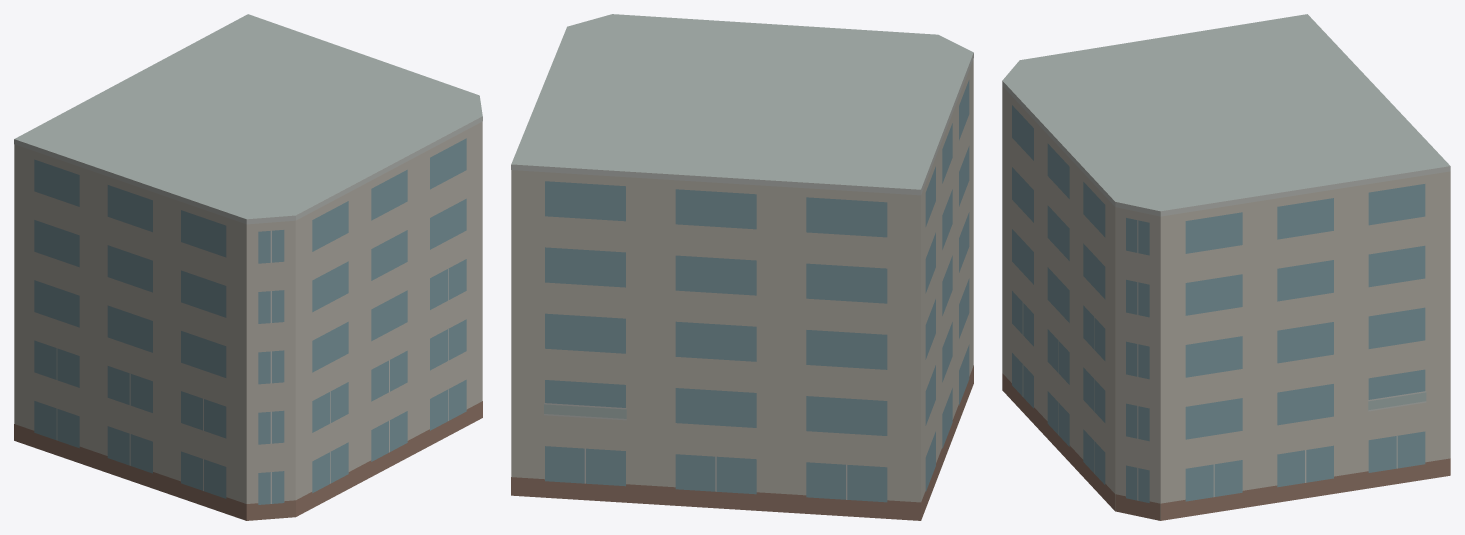
Rendered from survey-upis-32523848.glb.
The picture shows the model from 3 angles, left to right: view 1: azimuth 30°, elevation 25°; view 2: azimuth 150°, elevation 25°; view 3: azimuth 270°, elevation 25°; orthographic projection. The views are drawn at different scales.
Visible parts, largest first — view 1: survey-upis-32523848.tmp; view 2: survey-upis-32523848.tmp; view 3: survey-upis-32523848.tmp.
Part boxes in pixels (<box>): survey-upis-32523848.tmp: <box>14,14,482,520</box>; survey-upis-32523848.tmp: <box>511,14,973,520</box>; survey-upis-32523848.tmp: <box>1002,14,1450,520</box>.
Size of the model in its own units: 19.56 by 14.3 by 18.78.
